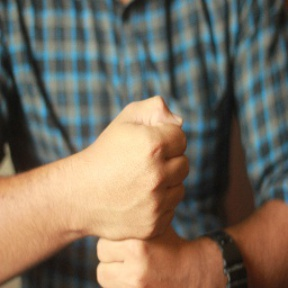G: (81, 93, 201, 288)
